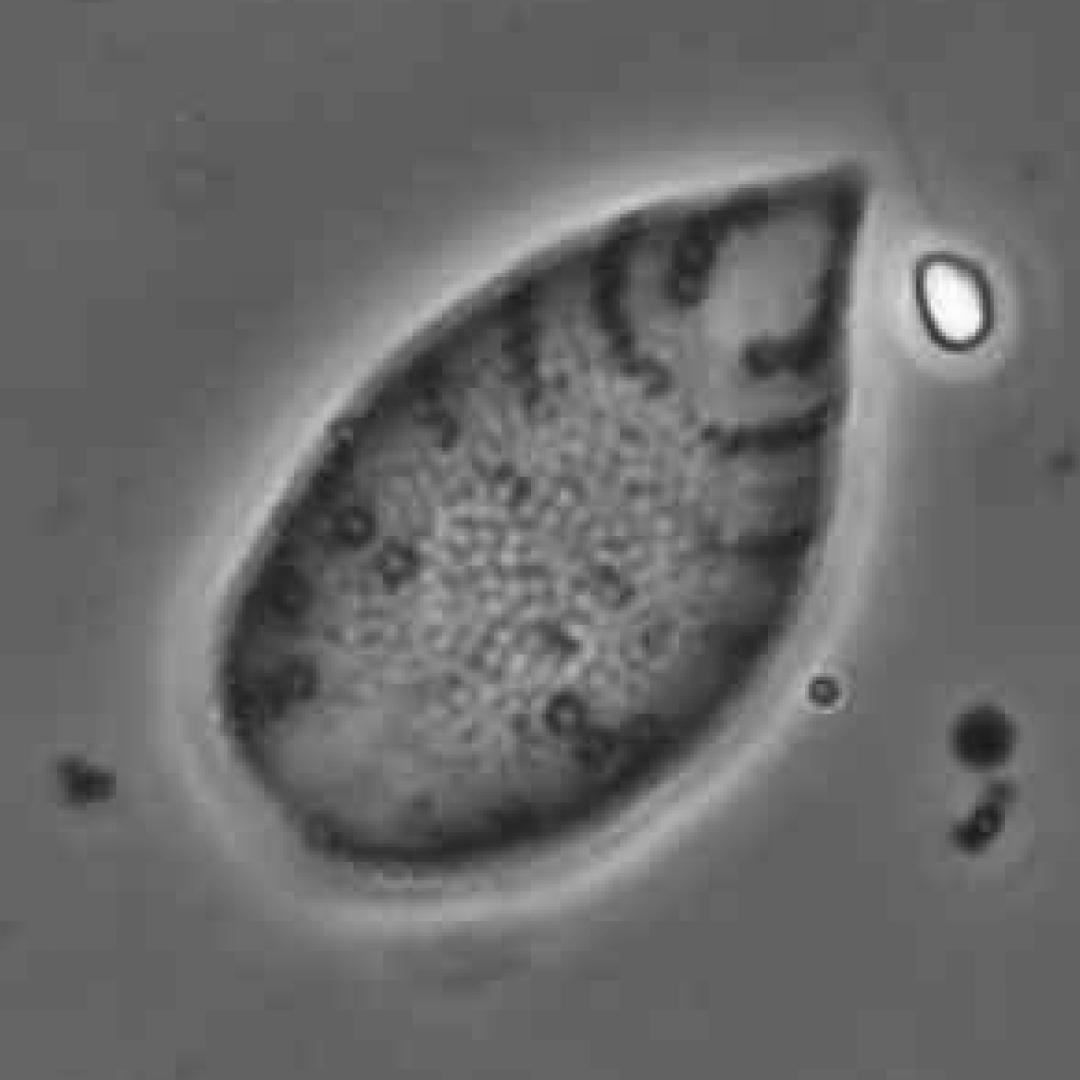prorocentrum_micans: (217, 167, 872, 877)
